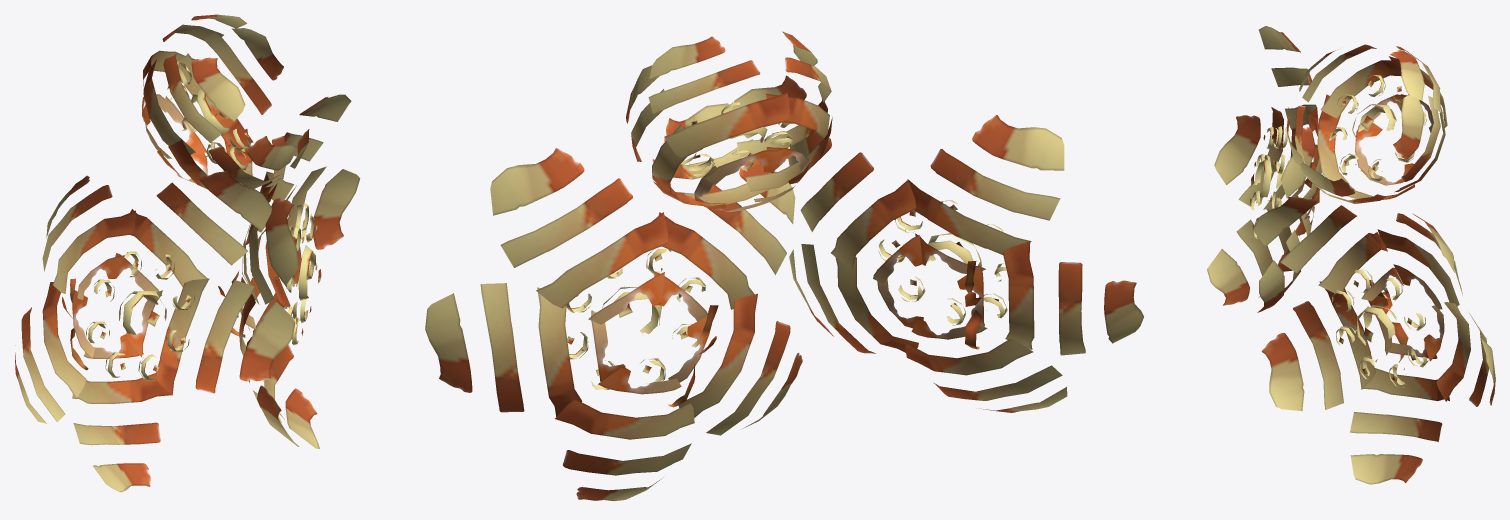
The model's file is pm0133_00_Rig.fbx.
The picture shows the model from 3 angles, left to right: view 1: azimuth 30°, elevation 25°; view 2: azimuth 150°, elevation 25°; view 3: azimuth 270°, elevation 25°; orthographic projection. The views are drawn at different scales.
Parts seen in each view (by area): view 1: doodad_spring_2023_flower; view 2: doodad_spring_2023_flower; view 3: doodad_spring_2023_flower.
Part boxes in pixels (x1=…): doodad_spring_2023_flower: x1=15, y1=14, x2=360, y2=492; doodad_spring_2023_flower: x1=425, y1=31, x2=1143, y2=500; doodad_spring_2023_flower: x1=1207, y1=26, x2=1495, y2=484.
Bounding box in the file's own units: 0.0978 × 0.0826 × 0.0563.
